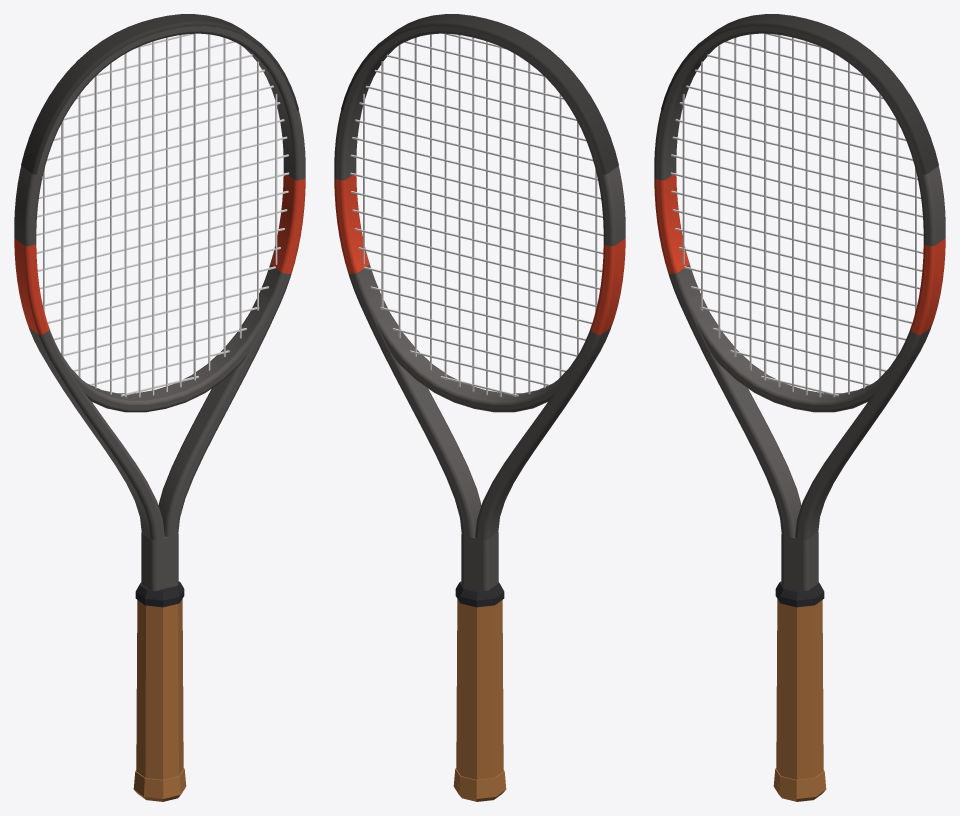
File: babolat-pure-strike-vs-2022.glb
The picture shows the model from 3 angles, left to right: view 1: azimuth 30°, elevation 25°; view 2: azimuth 150°, elevation 25°; view 3: azimuth 330°, elevation 25°; orthographic projection.
Visible parts, largest first — view 1: frame, strings_mains, strings_crosses, grip, bumper, butt_cap, collar; view 2: frame, strings_mains, strings_crosses, grip, bumper, butt_cap, collar; view 3: frame, strings_mains, strings_crosses, grip, bumper, butt_cap, collar.
Part boxes in pixels (box(x1,y1,x2,y2)): frame: box(14, 26, 305, 590); strings_mains: box(43, 33, 277, 397); strings_crosses: box(36, 34, 289, 396); grip: box(136, 599, 183, 779); bumper: box(21, 14, 298, 174); butt_cap: box(133, 768, 186, 801); collar: box(135, 581, 184, 607); frame: box(334, 26, 625, 590); strings_mains: box(363, 34, 597, 396); strings_crosses: box(350, 33, 603, 396); grip: box(456, 599, 503, 779); bumper: box(341, 14, 618, 174); butt_cap: box(453, 768, 506, 801); collar: box(455, 581, 504, 607); frame: box(654, 26, 945, 590); strings_mains: box(682, 33, 916, 397); strings_crosses: box(670, 34, 923, 396); grip: box(776, 599, 823, 779); bumper: box(661, 14, 938, 174); butt_cap: box(773, 768, 826, 801); collar: box(775, 581, 824, 607).
Size of the model in its own units: 0.2621 by 0.6861 by 0.0396.
